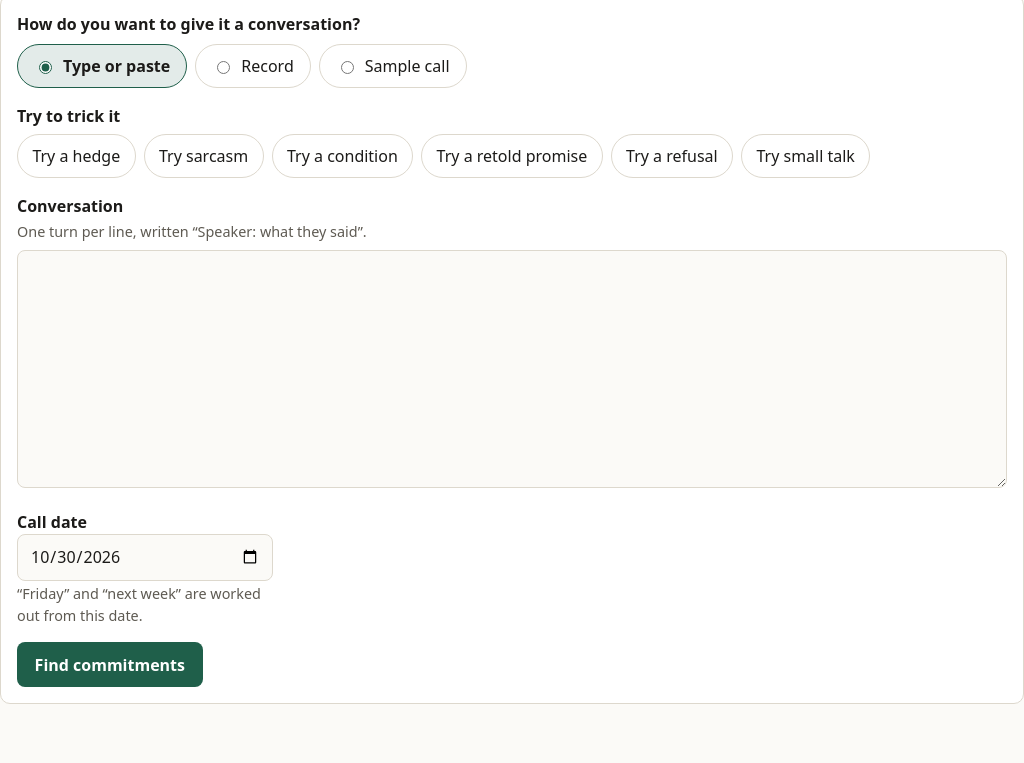
Demo › fills the conversation from a prompt chip, which can then be sent
Expected: the date field labelled "Call date" is not empty, 17,534 -> 273,581
Click the button "Try a hedge" at (76, 156), box 17,134 -> 136,178
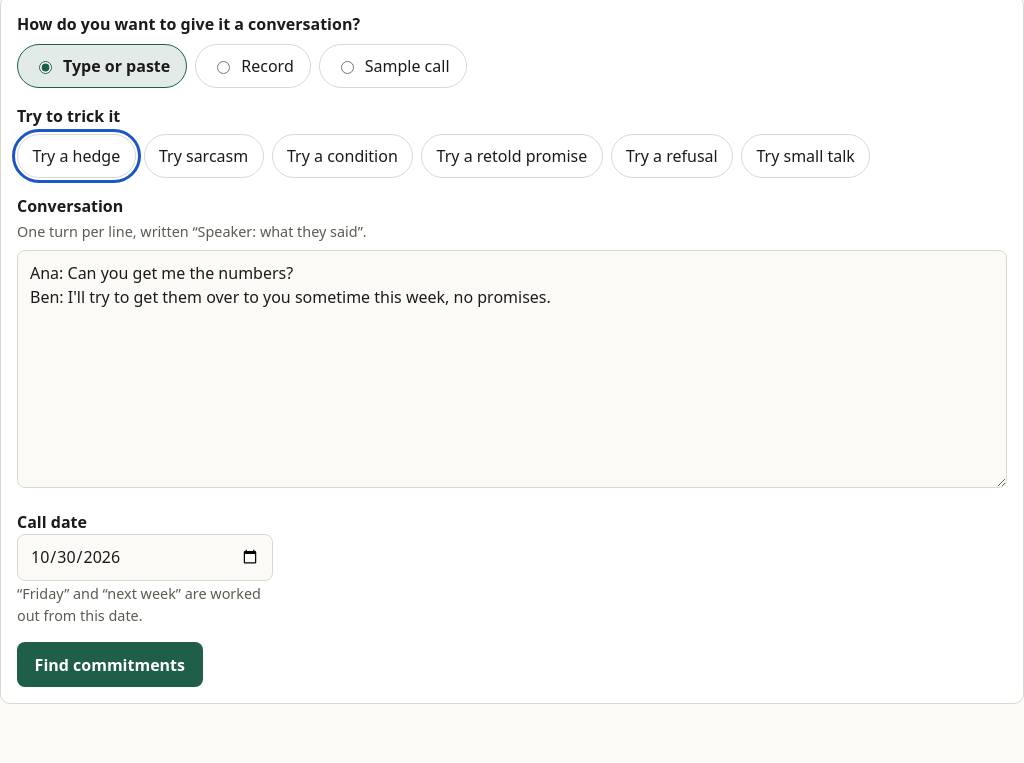
Click the button "Find commitments" at (110, 665), box 17,642 -> 203,687
(page scrolled)
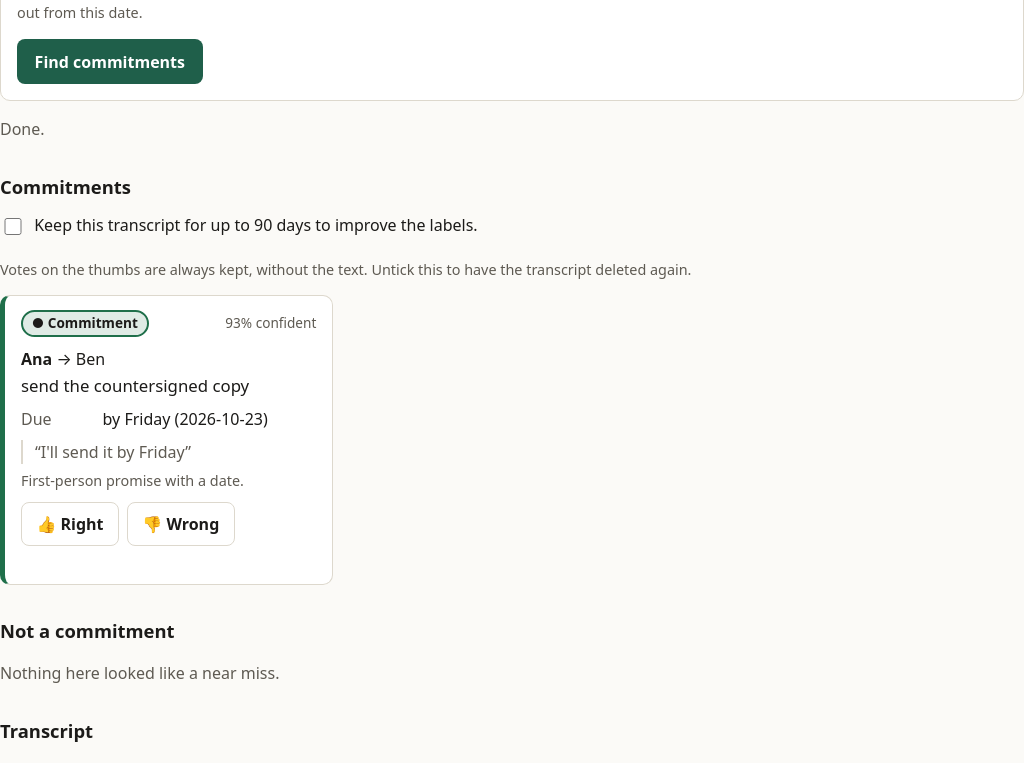
Expected: the element "Commitments" is shown, 0,174 -> 692,585
